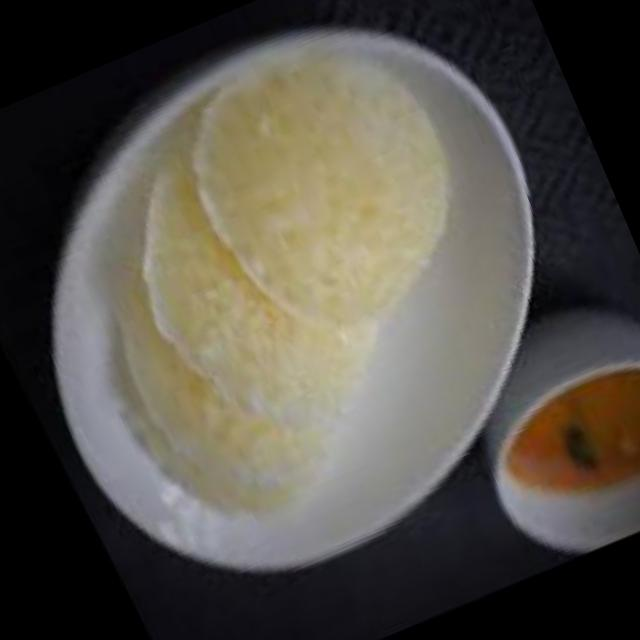idli: (82, 92, 408, 472), (156, 15, 498, 368), (58, 207, 358, 560)
